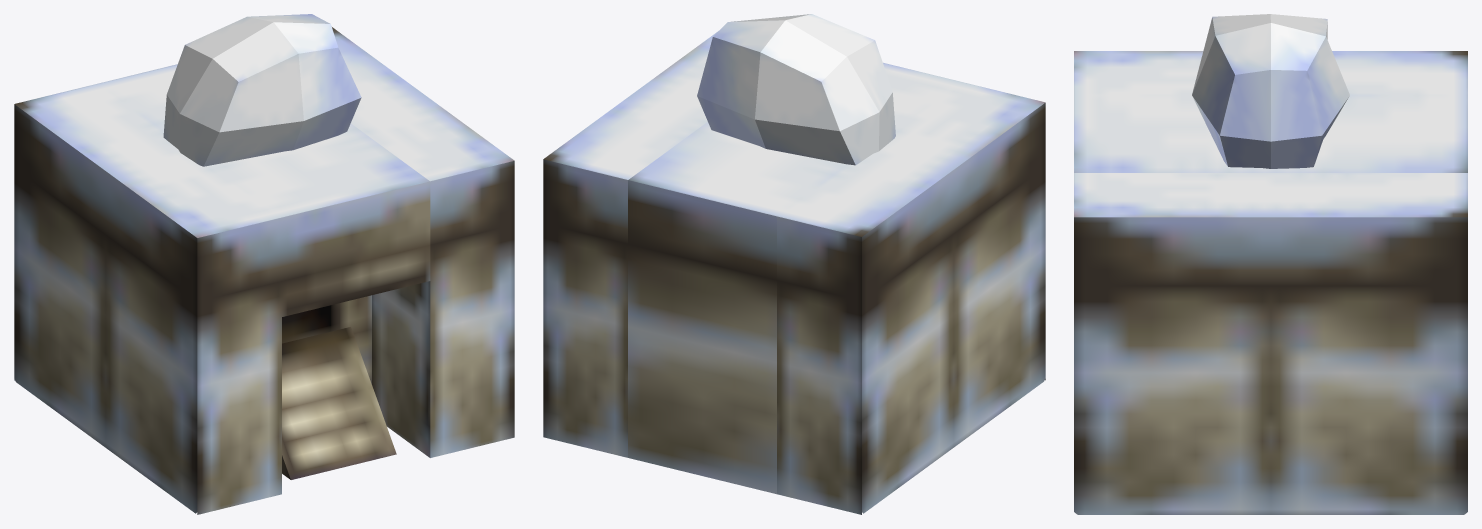
File: Poly_World_Map_Tombstone_House_01_Snow.obj
3 views of the same model, side by side, from view 1: azimuth 30°, elevation 25°; view 2: azimuth 150°, elevation 25°; view 3: azimuth 270°, elevation 25° (orthographic). The views are drawn at different scales.
Parts seen in each view (by area): view 1: Grid.001, Grid.003, Grid.002; view 2: Grid.001, Grid.003; view 3: Grid.001, Grid.003.
Part boxes in pixels (left/top/right/bottom): Grid.001: left=14, top=27, right=514, bottom=514; Grid.003: left=163, top=14, right=361, bottom=166; Grid.002: left=282, top=327, right=396, bottom=479; Grid.001: left=543, top=31, right=1045, bottom=514; Grid.003: left=697, top=14, right=895, bottom=165; Grid.001: left=1074, top=51, right=1467, bottom=514; Grid.003: left=1192, top=14, right=1349, bottom=168.
Size of the model in its own units: 0.6 by 0.695 by 0.6.
Materials: 1 (1 with a texture image).
